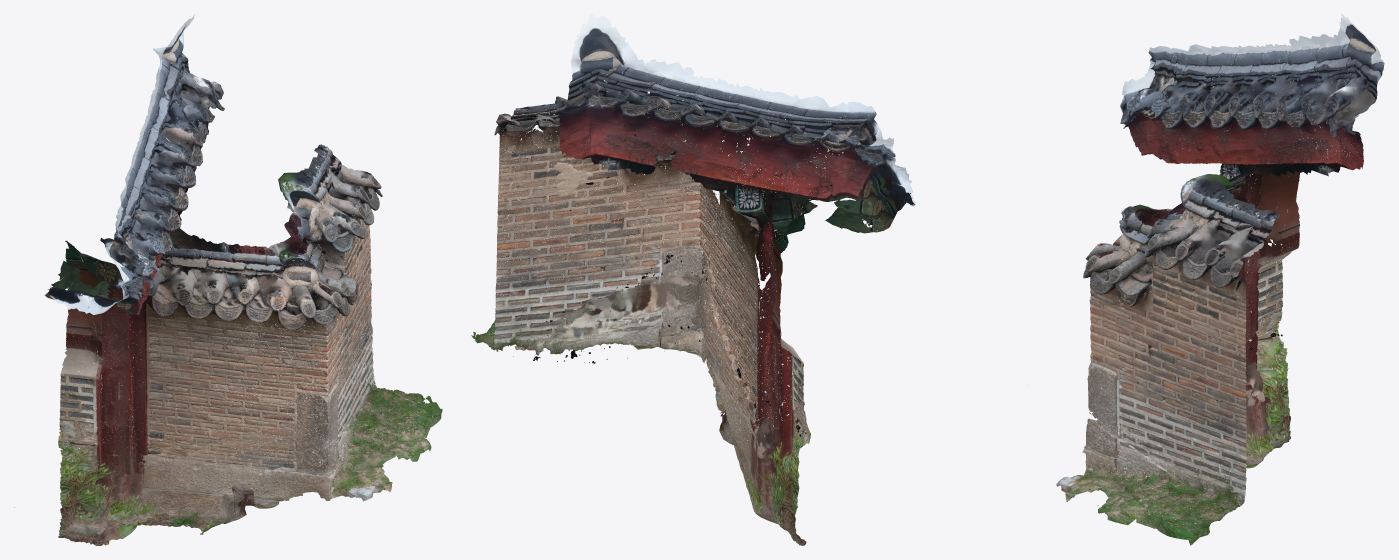
Rendered from wallgate.glb.
The picture shows the model from 3 angles, left to right: view 1: azimuth 30°, elevation 25°; view 2: azimuth 150°, elevation 25°; view 3: azimuth 270°, elevation 25°; orthographic projection. The views are drawn at different scales.
Parts seen in each view (by area): view 1: Object_12, Object_5, Object_16, Object_13, Object_8, Object_14, Object_6, Object_4, Object_11, Object_15, Object_7, Object_3 (+4 smaller); view 2: Object_5, Object_2, Object_13, Object_16, Object_8, Object_7, Object_10, Object_3, Object_15, Object_6, Object_14, Object_12 (+4 smaller); view 3: Object_2, Object_3, Object_16, Object_10, Object_8, Object_6, Object_5, Object_14, Object_13, Object_7, Object_15, Object_4 (+4 smaller).
Boxes of the visible parts, bbox=[...] form: Object_12: bbox=[132, 195, 349, 417]; Object_5: bbox=[46, 90, 331, 526]; Object_16: bbox=[14, 22, 328, 545]; Object_13: bbox=[132, 48, 332, 508]; Object_8: bbox=[60, 14, 333, 537]; Object_14: bbox=[80, 144, 431, 461]; Object_6: bbox=[58, 178, 382, 526]; Object_4: bbox=[170, 222, 351, 521]; Object_11: bbox=[244, 303, 429, 508]; Object_15: bbox=[49, 186, 442, 500]; Object_7: bbox=[45, 181, 436, 492]; Object_3: bbox=[304, 159, 441, 501]; Object_5: bbox=[559, 75, 886, 472]; Object_2: bbox=[495, 119, 700, 297]; Object_13: bbox=[553, 42, 829, 410]; Object_16: bbox=[561, 33, 809, 545]; Object_8: bbox=[555, 14, 809, 519]; Object_7: bbox=[493, 106, 906, 362]; Object_10: bbox=[497, 103, 725, 334]; Object_3: bbox=[492, 114, 707, 362]; Object_15: bbox=[471, 97, 917, 367]; Object_6: bbox=[494, 117, 810, 487]; Object_14: bbox=[499, 95, 851, 420]; Object_12: bbox=[647, 137, 766, 383]; Object_2: bbox=[1090, 245, 1246, 447]; Object_3: bbox=[1056, 193, 1250, 536]; Object_16: bbox=[1108, 32, 1384, 466]; Object_10: bbox=[1100, 205, 1279, 472]; Object_8: bbox=[1090, 14, 1362, 469]; Object_6: bbox=[1106, 193, 1299, 480]; Object_5: bbox=[1090, 44, 1363, 470]; Object_14: bbox=[1097, 44, 1279, 525]; Object_13: bbox=[1087, 24, 1356, 395]; Object_7: bbox=[1065, 47, 1248, 532]; Object_15: bbox=[1084, 45, 1244, 545]; Object_4: bbox=[1085, 204, 1220, 481].
Size of the model in its own units: 3.75 by 3.6 by 2.07.
2 materials, 2 textured.
